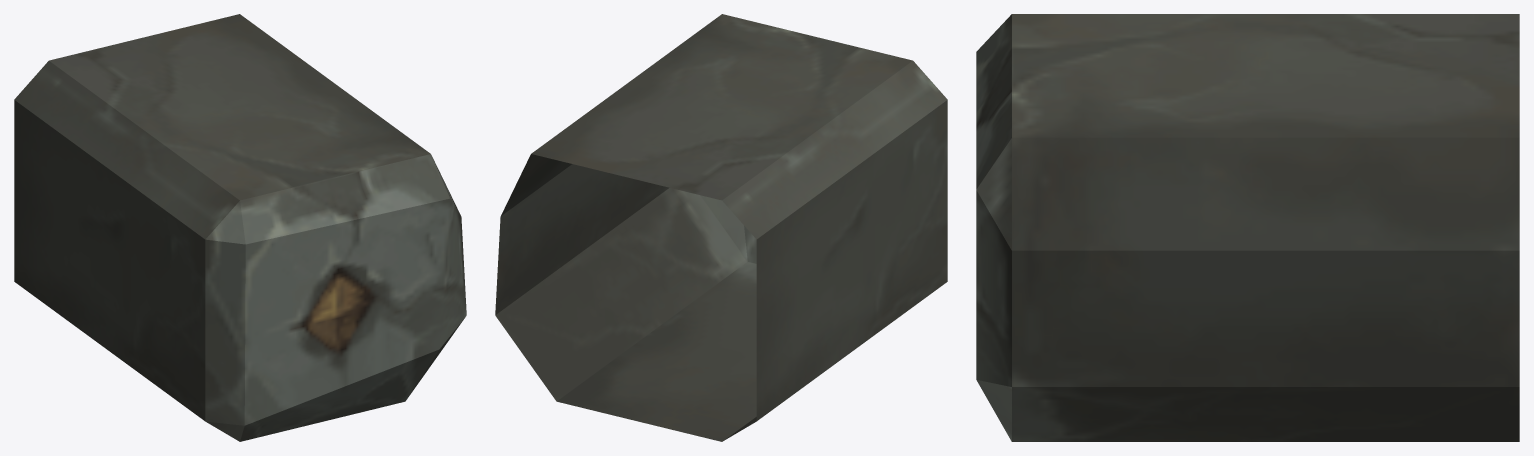
The model's file is yw_shanlin_doortop_24.FBX.
The picture shows the model from 3 angles, left to right: view 1: azimuth 30°, elevation 25°; view 2: azimuth 150°, elevation 25°; view 3: azimuth 270°, elevation 25°; orthographic projection. The views are drawn at different scales.
Parts seen in each view (by area): view 1: yw_shanlin_doortop_24; view 2: yw_shanlin_doortop_24; view 3: yw_shanlin_doortop_24.
Part boxes in pixels (<box>): yw_shanlin_doortop_24: <box>14,14,466,441</box>; yw_shanlin_doortop_24: <box>495,14,947,441</box>; yw_shanlin_doortop_24: <box>976,14,1519,441</box>.
Size of the model in its own units: 45.34 by 40.02 by 61.45.
